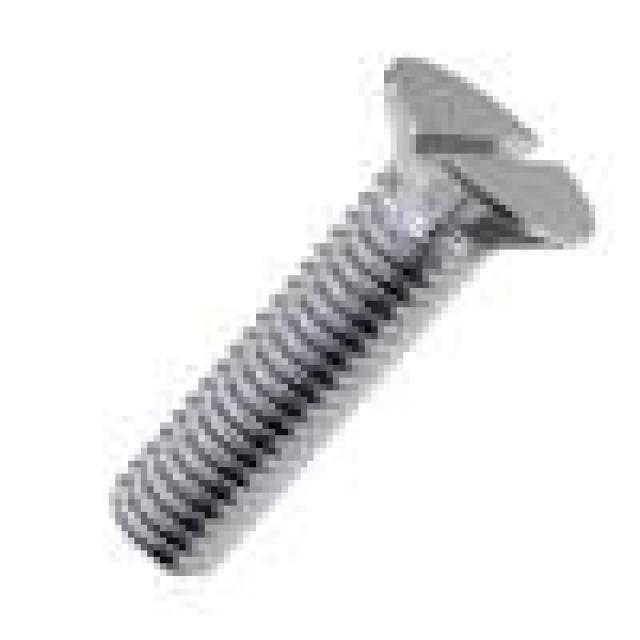Screw: (109, 58, 595, 576)
